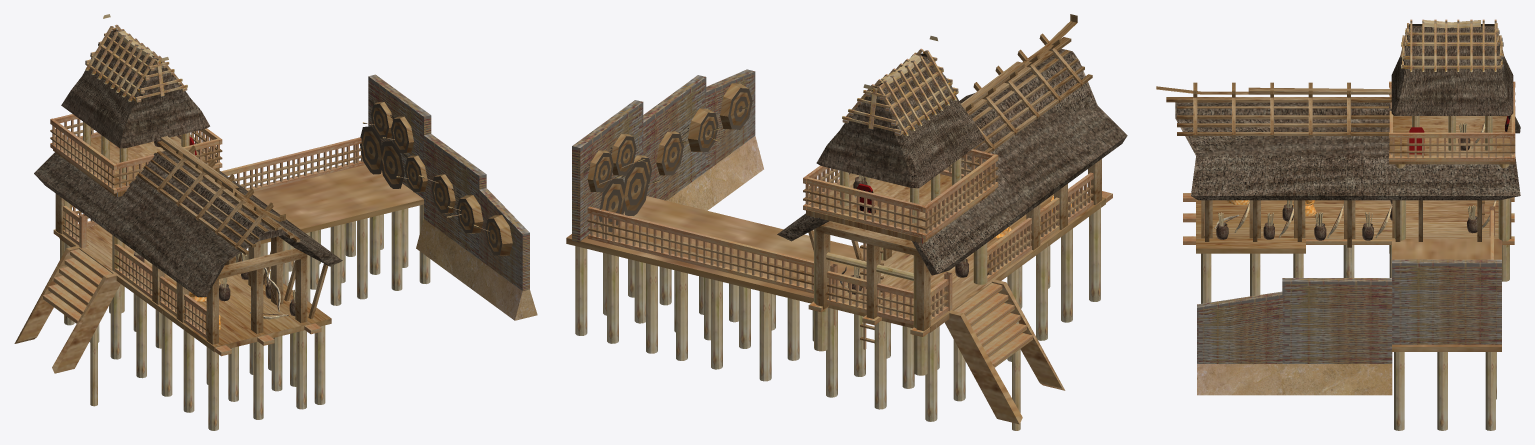
The model's file is yayoi_range.dae.
The picture shows the model from 3 angles, left to right: view 1: azimuth 30°, elevation 25°; view 2: azimuth 150°, elevation 25°; view 3: azimuth 270°, elevation 25°; orthographic projection. The views are drawn at different scales.
Visible parts, largest first — view 1: range.003; view 2: range.003; view 3: range.003.
Boxes of the visible parts, bbox=[...] form: range.003: bbox=[14, 14, 537, 430]; range.003: bbox=[566, 14, 1127, 430]; range.003: bbox=[1156, 19, 1520, 430].
Size of the model in its own units: 27.01 by 22.34 by 22.02.
